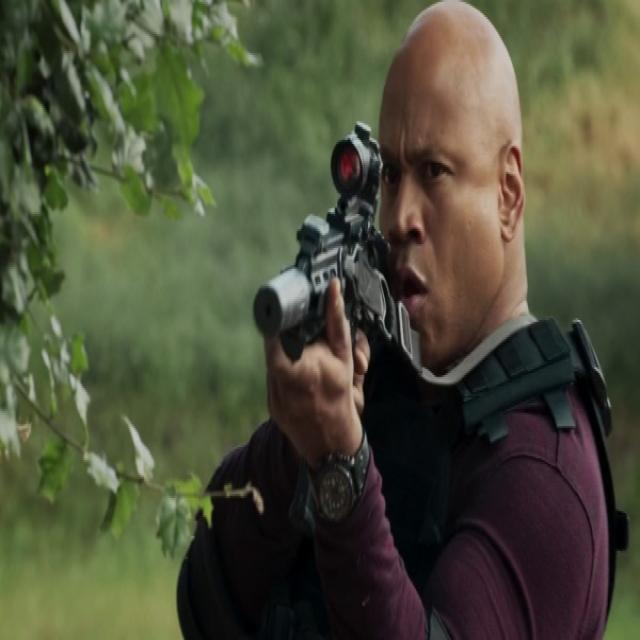rifle: (251, 115, 394, 380)
